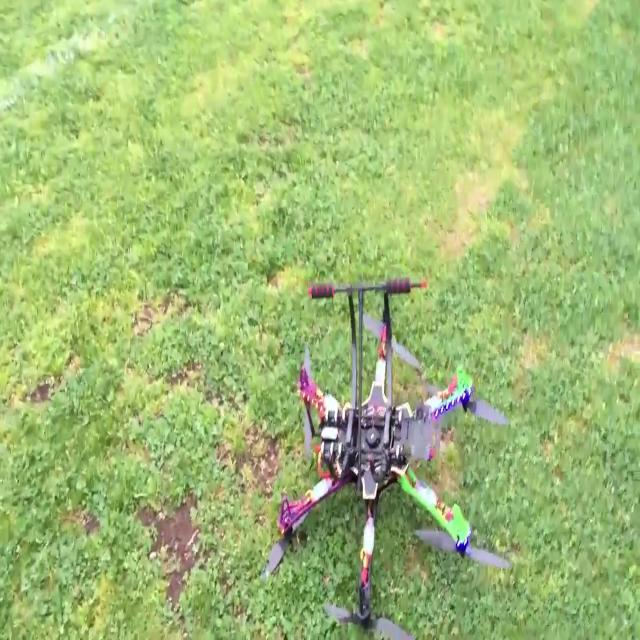drone: (268, 282, 494, 640)
